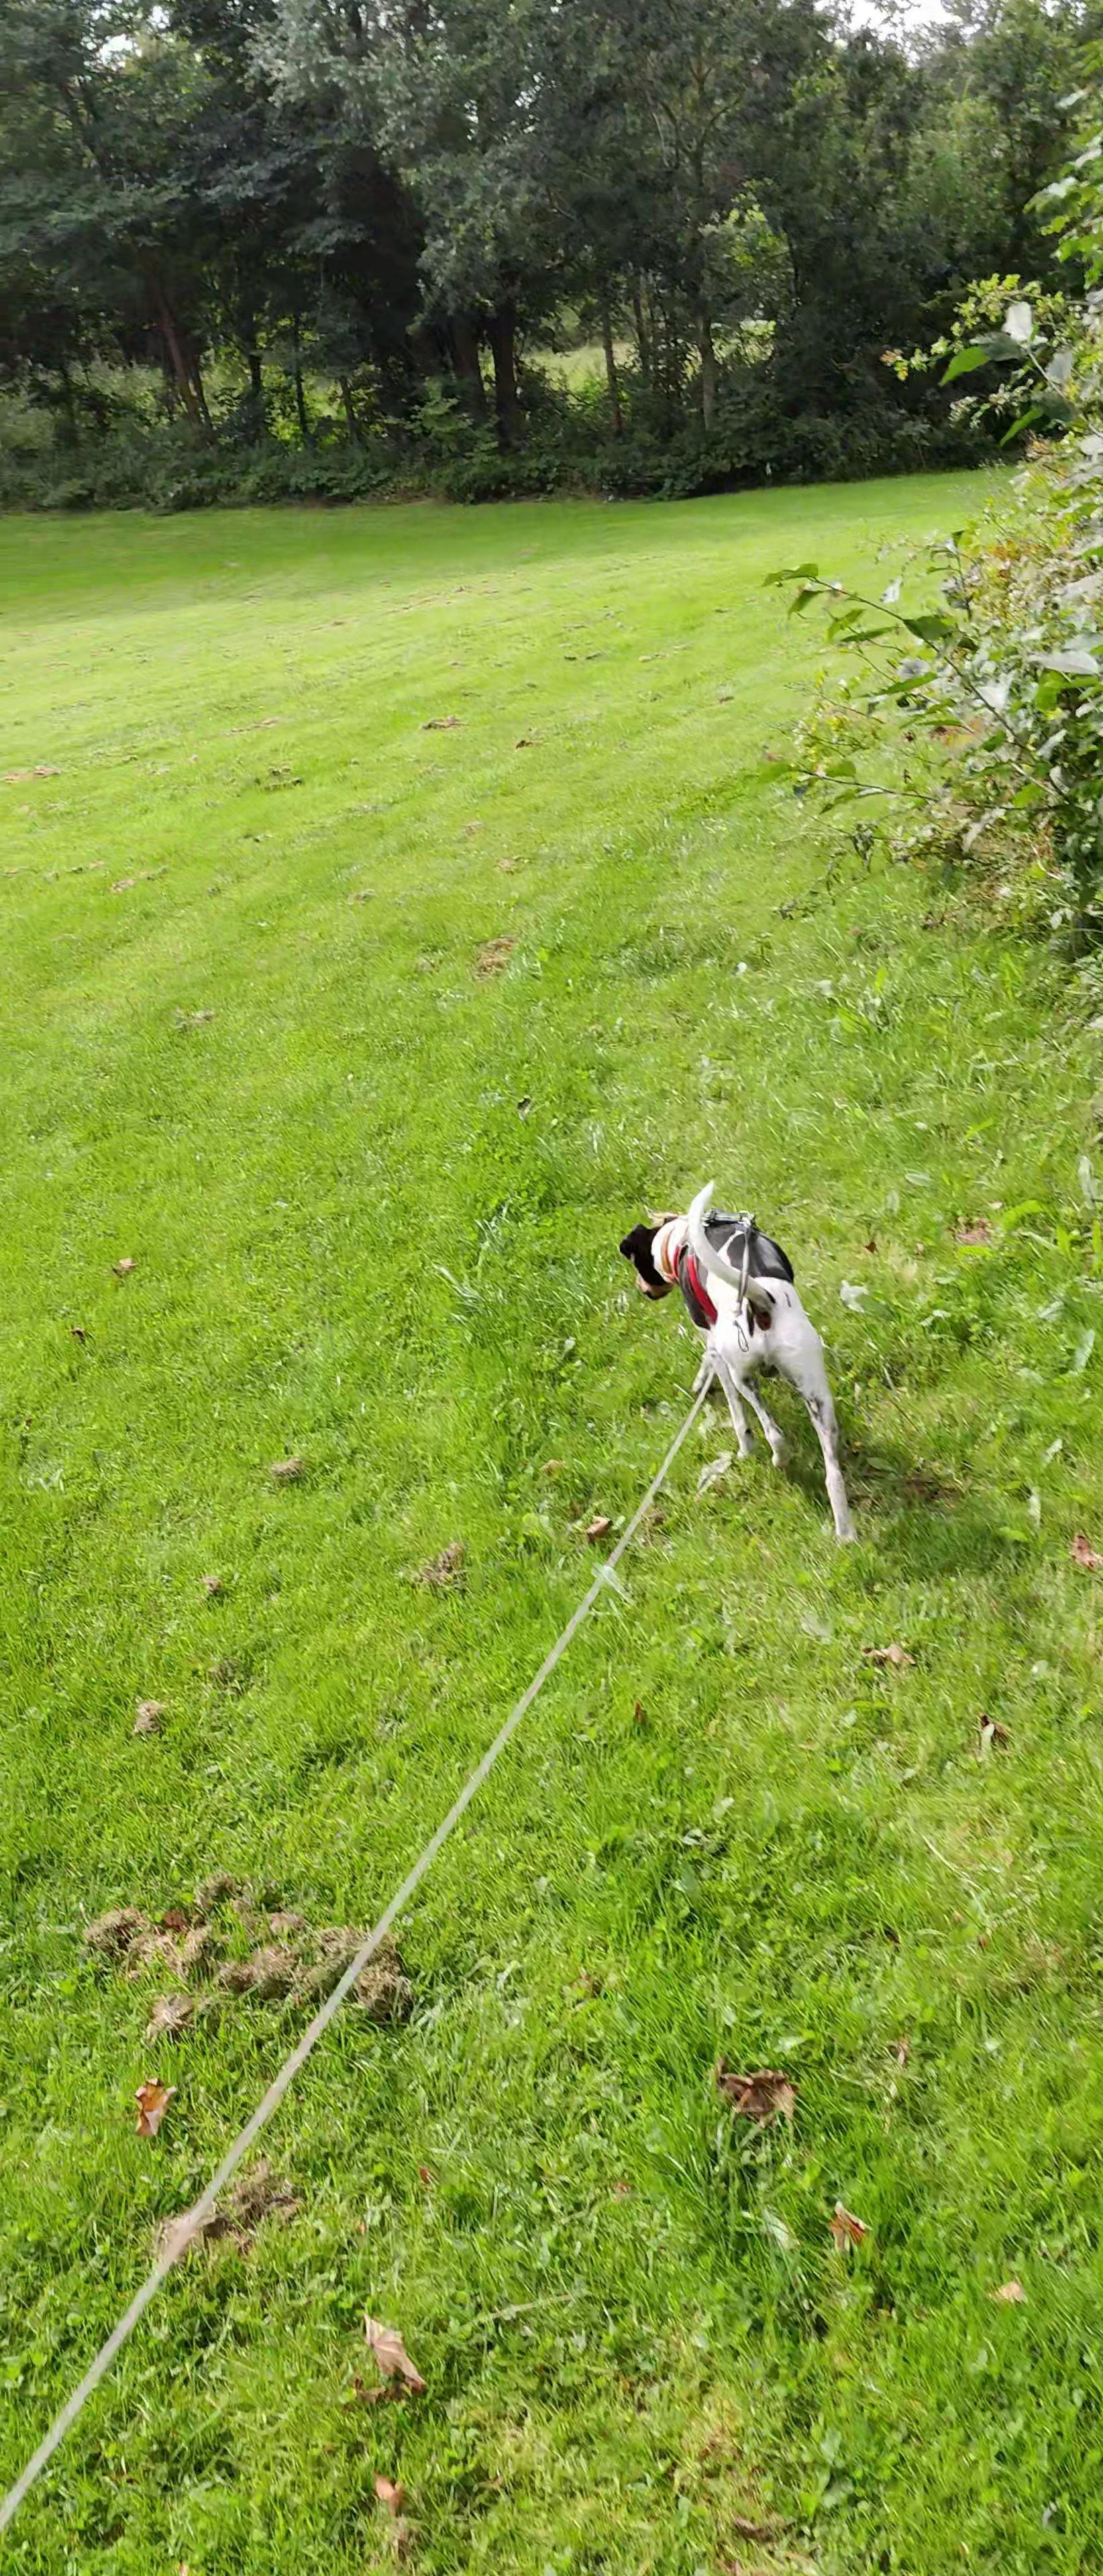Dog: (616, 1171, 855, 1546)
